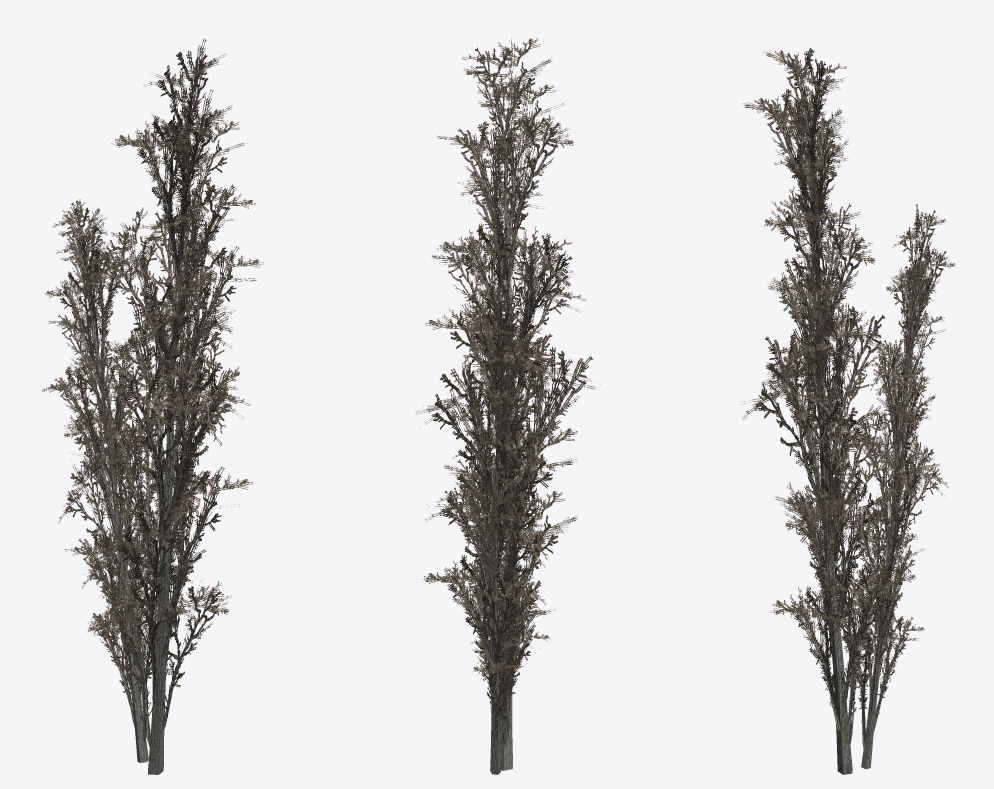
The model's file is flora_tree_poplar_lombardy_dead_v4.glb.
3 views of the same model, side by side, from view 1: azimuth 30°, elevation 25°; view 2: azimuth 150°, elevation 25°; view 3: azimuth 270°, elevation 25° (orthographic). The views are drawn at different scales.
Parts seen in each view (by area): view 1: flora_tree_poplar_lombardy_dead_v4_part0; view 2: flora_tree_poplar_lombardy_dead_v4_part0; view 3: flora_tree_poplar_lombardy_dead_v4_part0.
Boxes of the visible parts, x1,y1,x2,y2 form: flora_tree_poplar_lombardy_dead_v4_part0: (42,38,263,774); flora_tree_poplar_lombardy_dead_v4_part0: (415,38,600,774); flora_tree_poplar_lombardy_dead_v4_part0: (740,47,955,774).
Size of the model in its own units: 8.83 by 23.85 by 8.5.
1 material, 1 textured.
